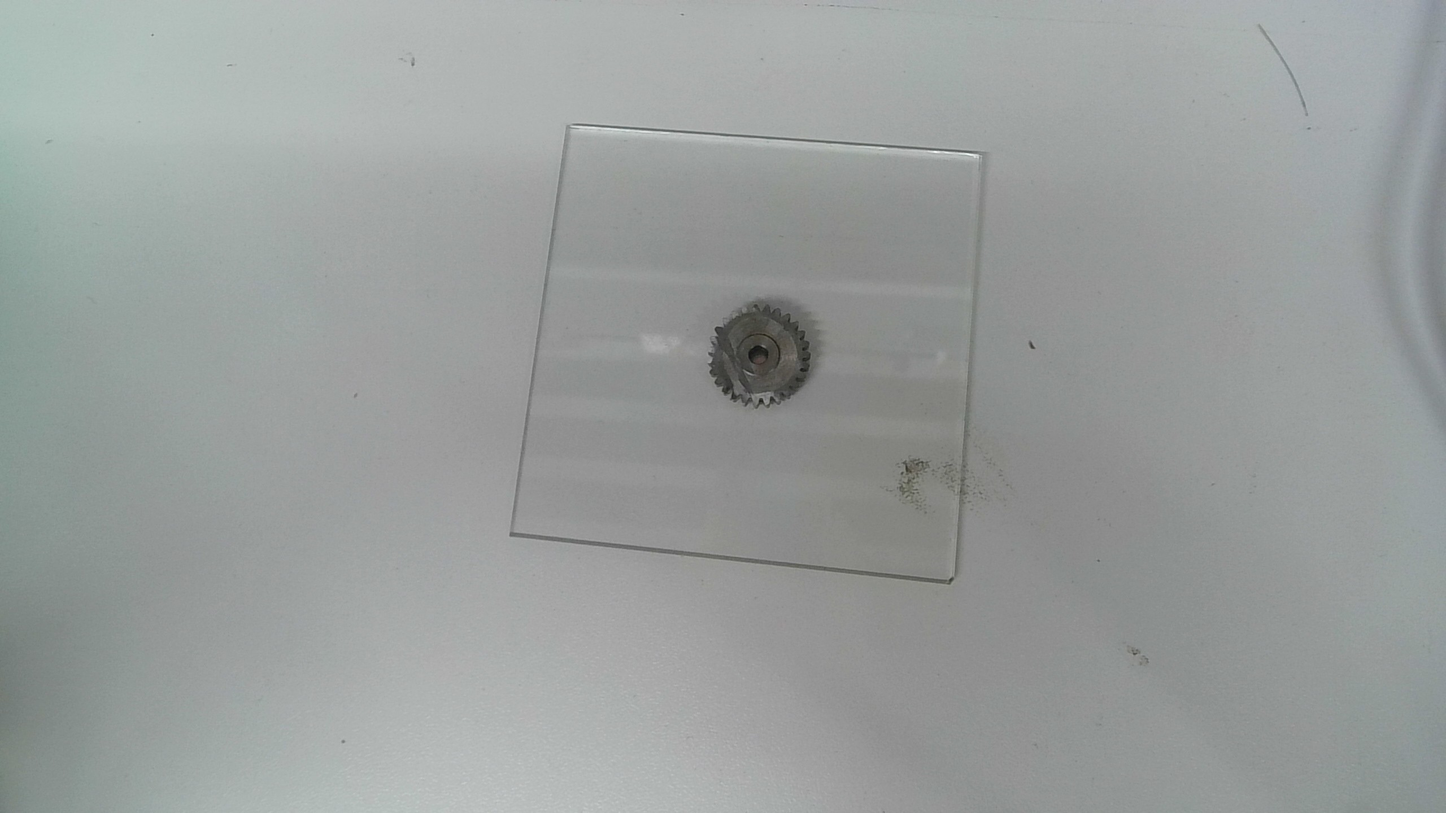gear: (706, 300, 815, 413)
